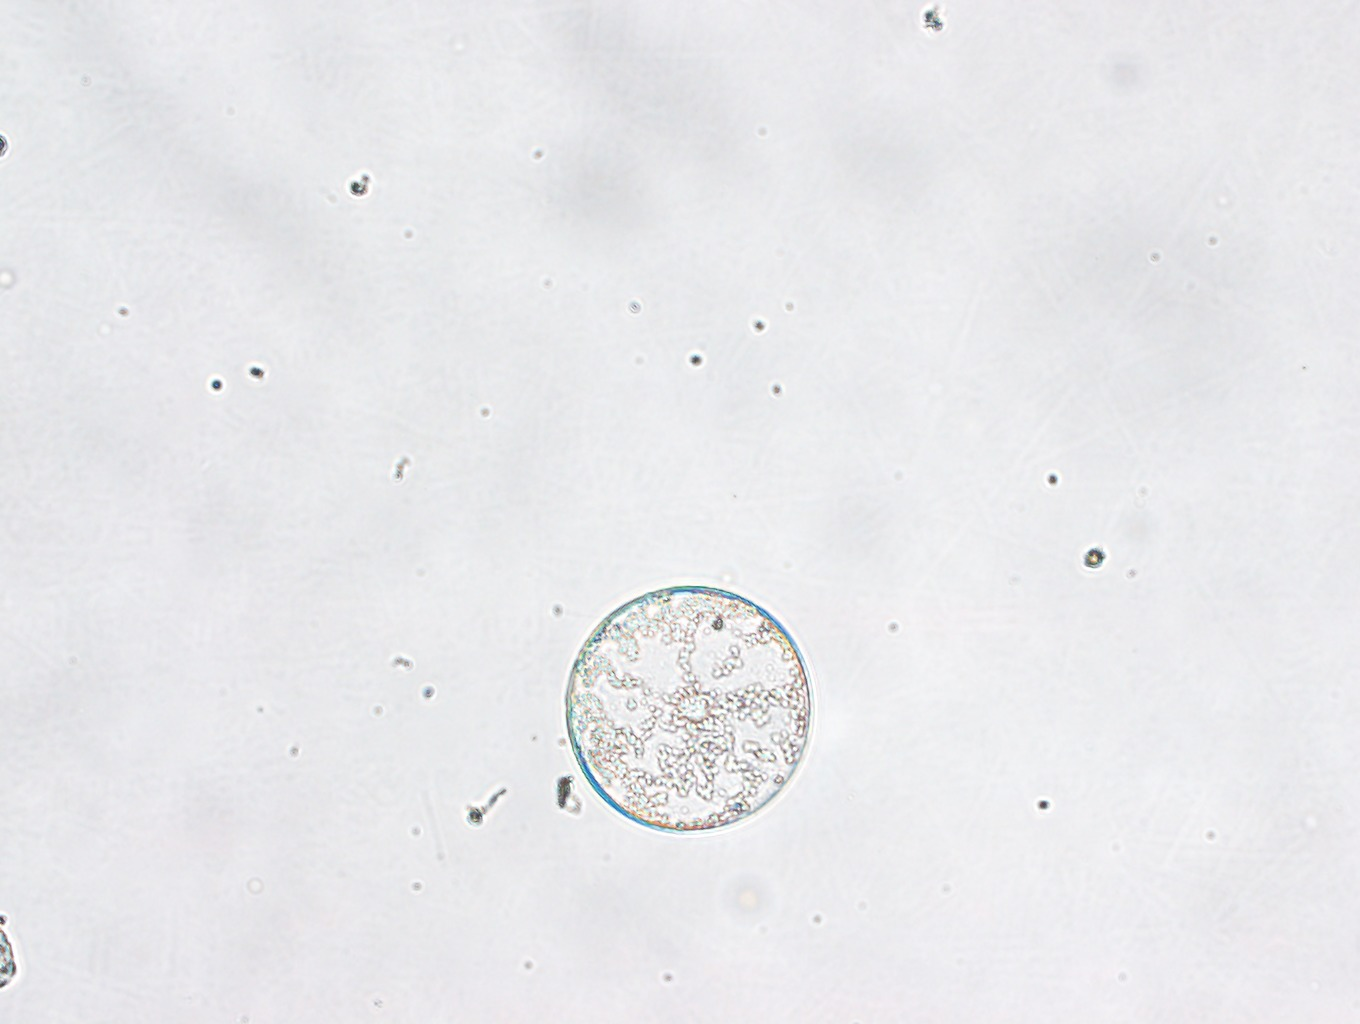coscinodiscus: (564, 584, 813, 833)
